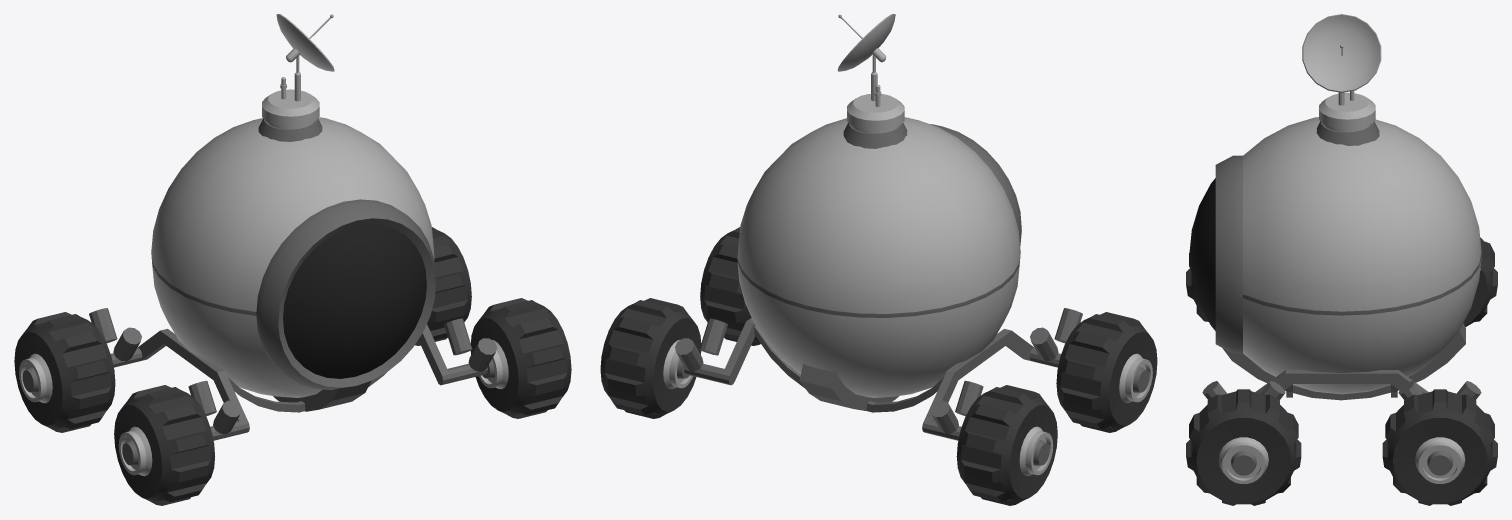
File: Enemy_RoundRover.glb
The picture shows the model from 3 angles, left to right: view 1: azimuth 30°, elevation 25°; view 2: azimuth 150°, elevation 25°; view 3: azimuth 270°, elevation 25°; orthographic projection.
Parts seen in each view (by area): view 1: Rover_Round, Wheel_2, Wheel_4, Wheel_3, Wheel_1; view 2: Rover_Round, Wheel_4, Wheel_2, Wheel_1, Wheel_3; view 3: Rover_Round, Wheel_1, Wheel_3, Wheel_4, Wheel_2.
Part boxes in pixels (x1,y1,x2,y2): Rover_Round: [89, 14, 496, 440]; Wheel_2: [114, 385, 214, 505]; Wheel_4: [14, 312, 115, 432]; Wheel_3: [470, 298, 571, 418]; Wheel_1: [415, 227, 471, 345]; Rover_Round: [675, 14, 1082, 440]; Wheel_4: [956, 385, 1057, 505]; Wheel_2: [1056, 312, 1157, 432]; Wheel_1: [600, 298, 701, 418]; Wheel_3: [700, 227, 760, 345]; Rover_Round: [1189, 14, 1481, 400]; Wheel_1: [1382, 389, 1497, 505]; Wheel_3: [1186, 389, 1301, 505]; Wheel_4: [1463, 237, 1497, 326]; Wheel_2: [1186, 252, 1208, 321].
Size of the model in its own units: 5.79 by 5.17 by 3.69.
Materials: 1 (1 with a texture image).
